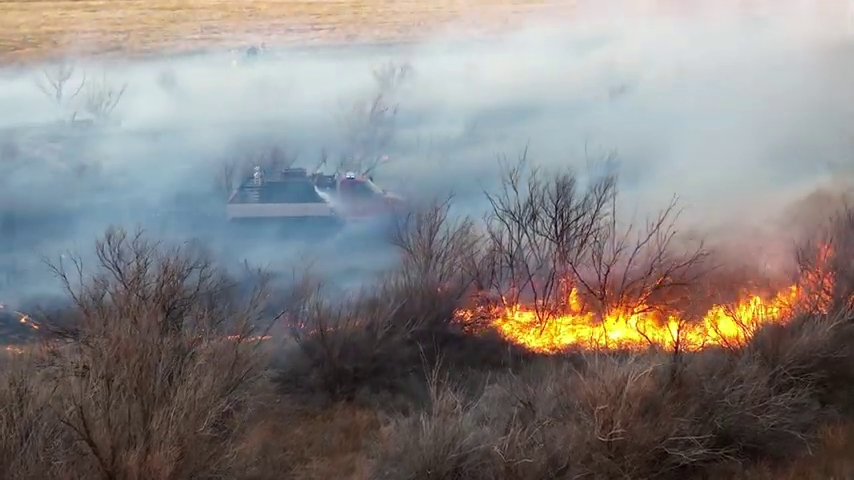forest_fire: (458, 264, 832, 353), (819, 246, 830, 258), (551, 309, 552, 311)
